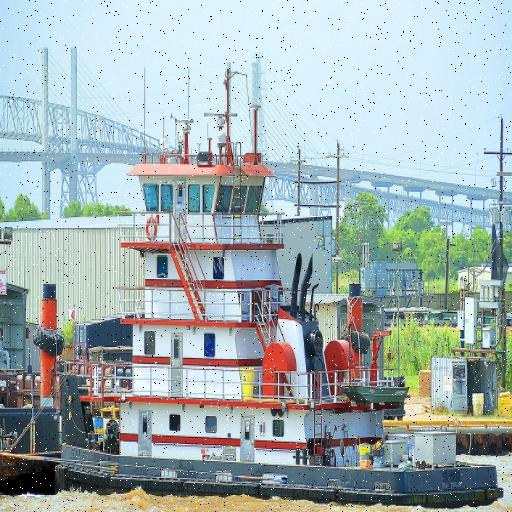tugboat: (47, 134, 508, 512)
